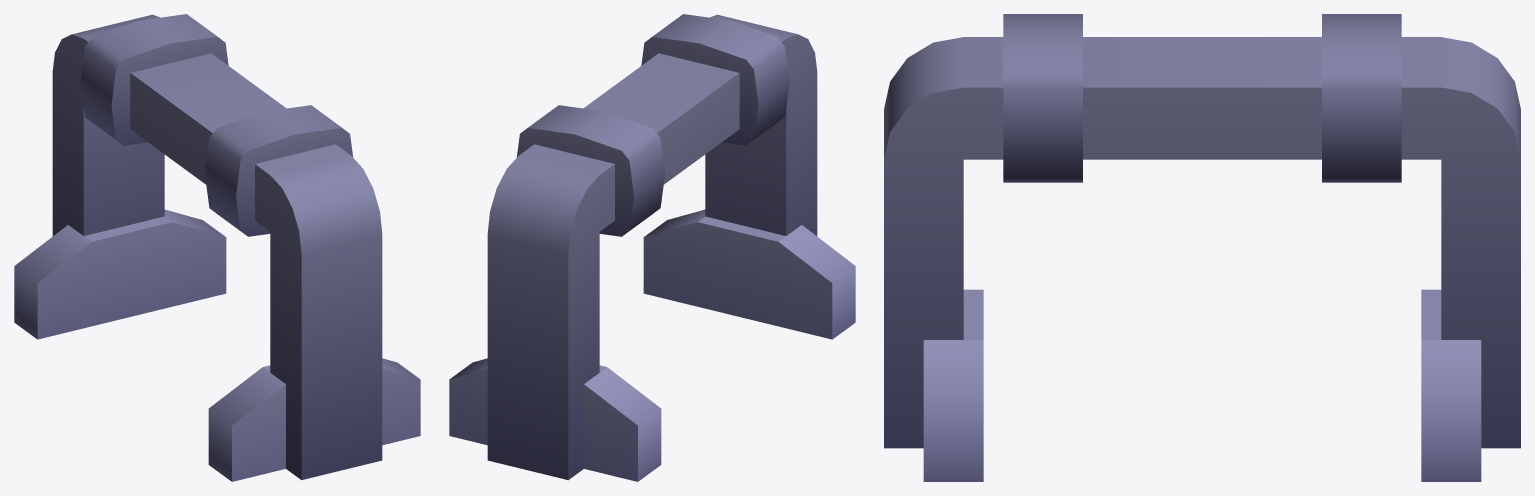
Rendered from kenney-factory-scanner-low.glb.
The picture shows the model from 3 angles, left to right: view 1: azimuth 30°, elevation 25°; view 2: azimuth 150°, elevation 25°; view 3: azimuth 270°, elevation 25°; orthographic projection. The views are drawn at different scales.
Visible parts, largest first — view 1: scanner-low; view 2: scanner-low; view 3: scanner-low.
Boxes of the visible parts, bbox=[...] form: scanner-low: bbox=[14, 14, 420, 481]; scanner-low: bbox=[449, 14, 855, 481]; scanner-low: bbox=[884, 14, 1520, 481].
Bounding box in the file's own units: 1.05 × 1.61 × 2.4.
Materials: 1 (1 with a texture image).
